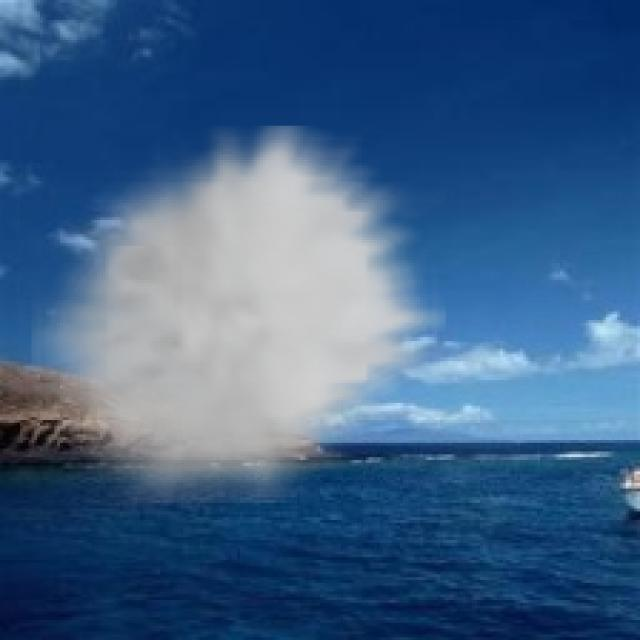Smoke: (31, 126, 446, 503)
